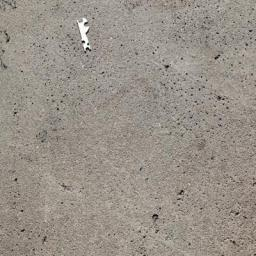FOD: (76, 17, 95, 55)
